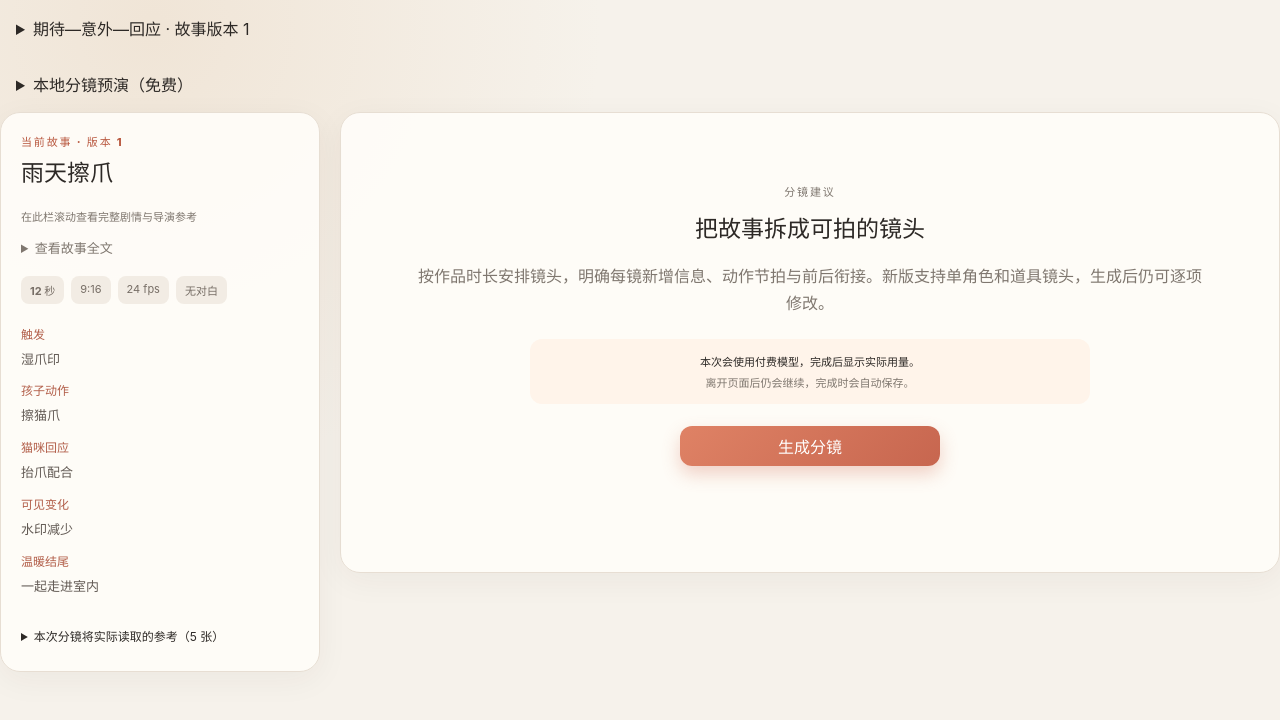
Test case: StoryboardStep › keeps the request key when the request outcome is unknown
Click the button with test id "generate-director-plan". click: (810, 446)
box: [680, 426, 940, 466]
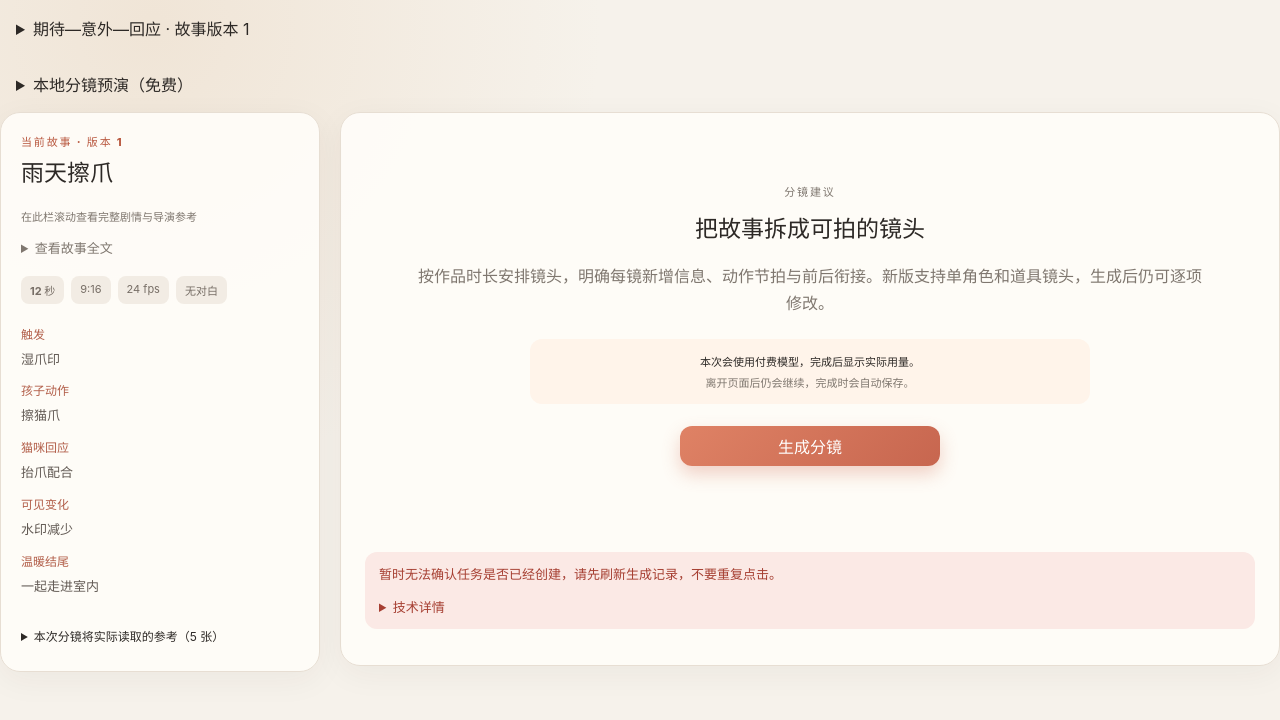
Expected: the text "暂时无法确认任务是否已经创建，请先刷新生成记录，不要重复点击" is shown, [379, 566, 782, 582]
